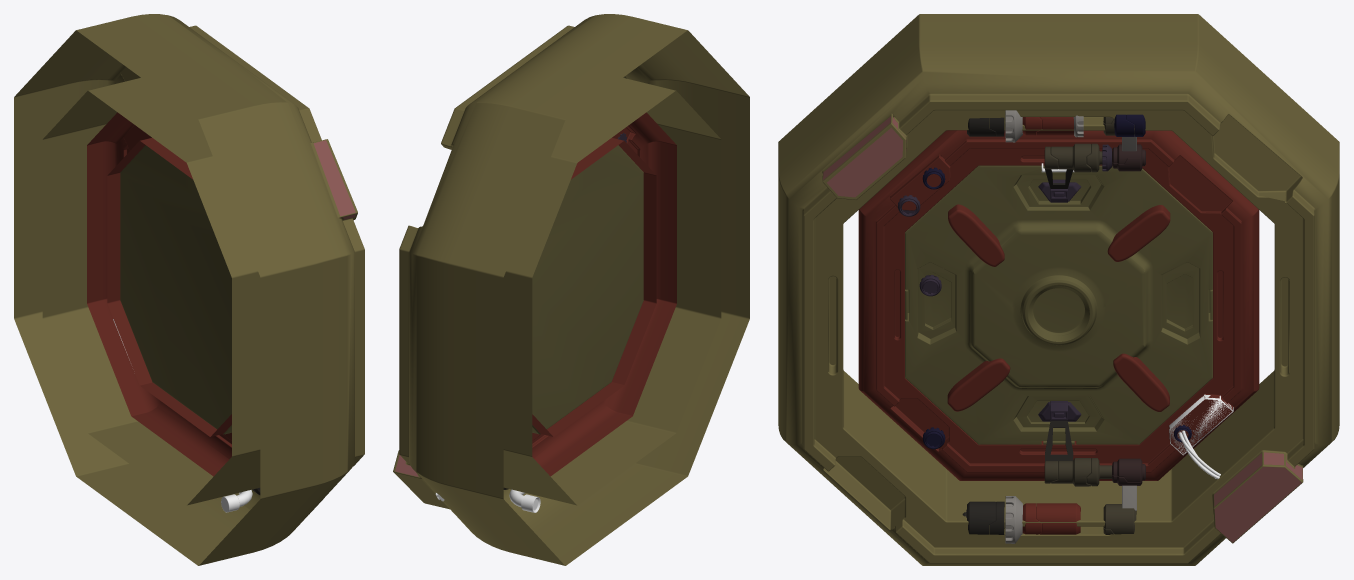
3 renders of one model, left to right at view 1: azimuth 30°, elevation 25°; view 2: azimuth 150°, elevation 25°; view 3: azimuth 270°, elevation 25°, orthographic. The views are drawn at different scales.
Parts seen in each view (by area): view 1: 立方体.010, 立方体.005, 立方体.007, 柱体.006; view 2: 立方体.010, 立方体.005, 立方体.007, 柱体.006; view 3: 立方体.010, 立方体.005, 立方体.007, 立方体.008, 柱体.025, 柱体.026, 柱体.029, 柱体.028, 柱体.027, Cutter.003, 柱体.024, 平面.001 (+2 smaller).
Part boxes in pixels (<box>): 立方体.010: <box>14,14,364,565</box>; 立方体.005: <box>120,145,231,434</box>; 立方体.007: <box>87,112,231,476</box>; 柱体.006: <box>221,490,252,512</box>; 立方体.010: <box>393,14,749,565</box>; 立方体.005: <box>532,145,643,434</box>; 立方体.007: <box>532,112,676,476</box>; 柱体.006: <box>509,489,540,512</box>; 立方体.010: <box>778,14,1339,565</box>; 立方体.005: <box>905,165,1212,444</box>; 立方体.007: <box>858,130,1259,480</box>; 立方体.008: <box>947,204,1170,411</box>; 柱体.025: <box>1044,143,1111,486</box>; 柱体.026: <box>1022,117,1080,534</box>; 柱体.029: <box>962,117,1004,534</box>; 柱体.028: <box>1112,144,1145,485</box>; 柱体.027: <box>1005,110,1022,543</box>; Cutter.003: <box>1169,394,1233,455</box>; 柱体.024: <box>1103,117,1136,534</box>; 平面.001: <box>1045,169,1073,461</box>.
Size of the model in its own units: 122 by 400 by 400.
